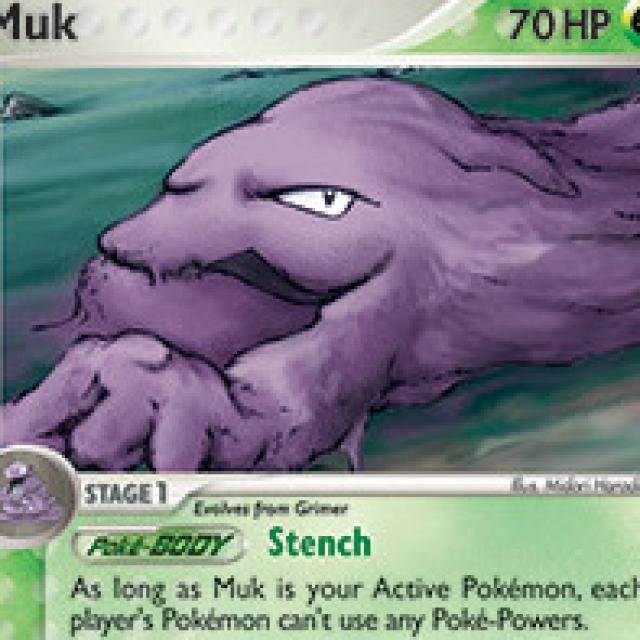Muk: (36, 74, 640, 453)
